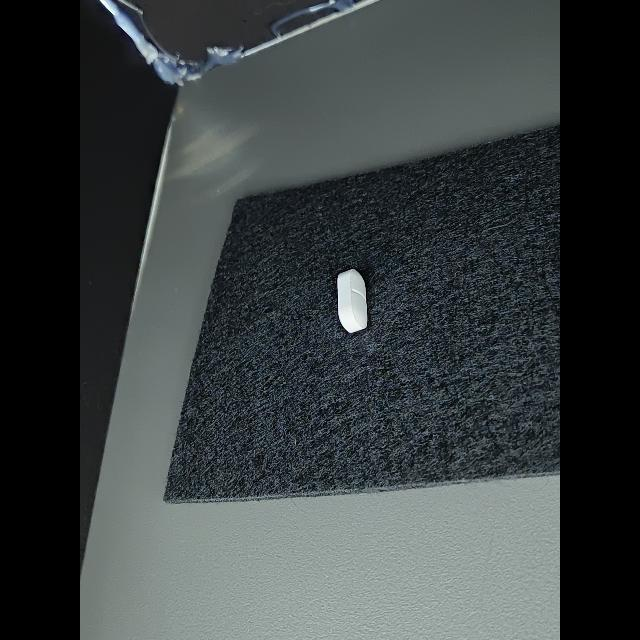Intact Pill: (337, 269, 367, 333)
